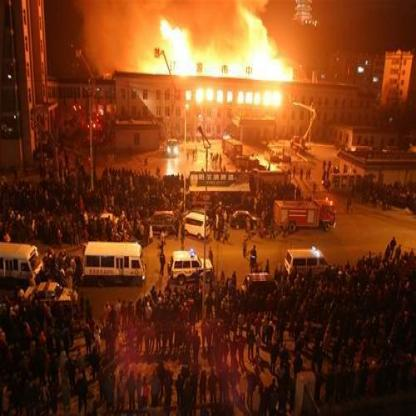fire: (134, 16, 291, 112)
other: (163, 142, 178, 155), (311, 244, 322, 258), (188, 245, 198, 259)
